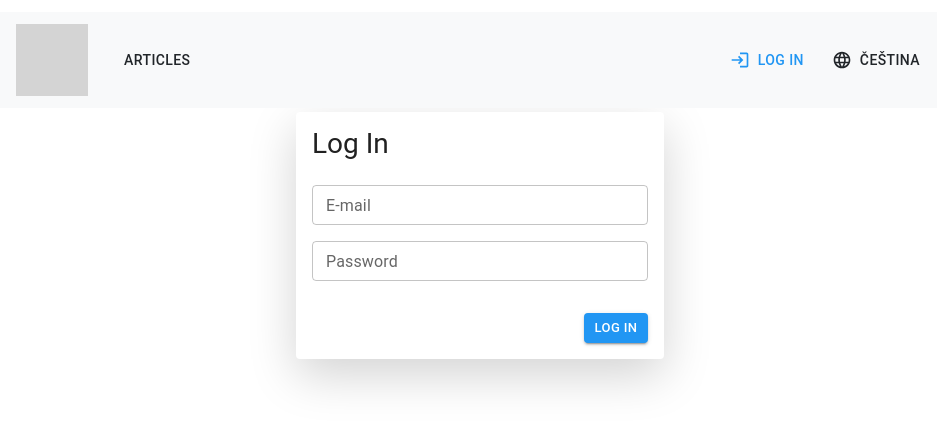
Test case: Login Page › should display an error message for invalid login
The image size is (937, 441).
In the element with test id "loginEmail": (480, 205) [312,185,648,225], type "invalid@example.com"
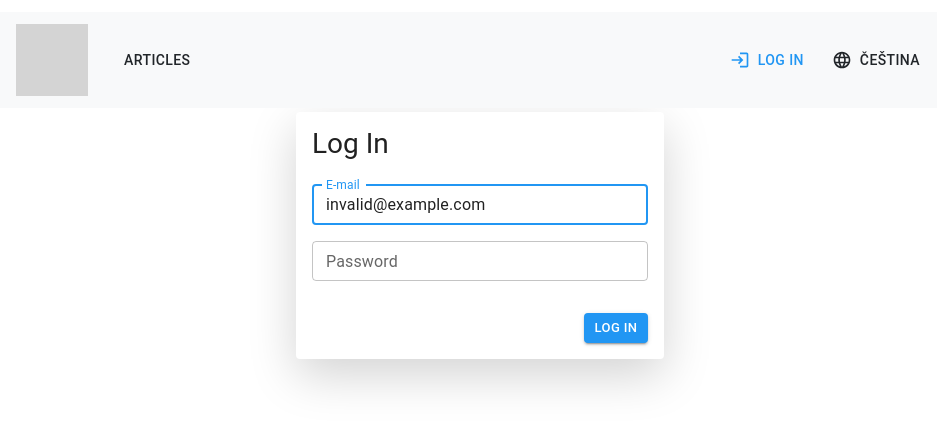
In the element with test id "loginPassword": (480, 261) [312,241,648,281], type "invalidpassword"
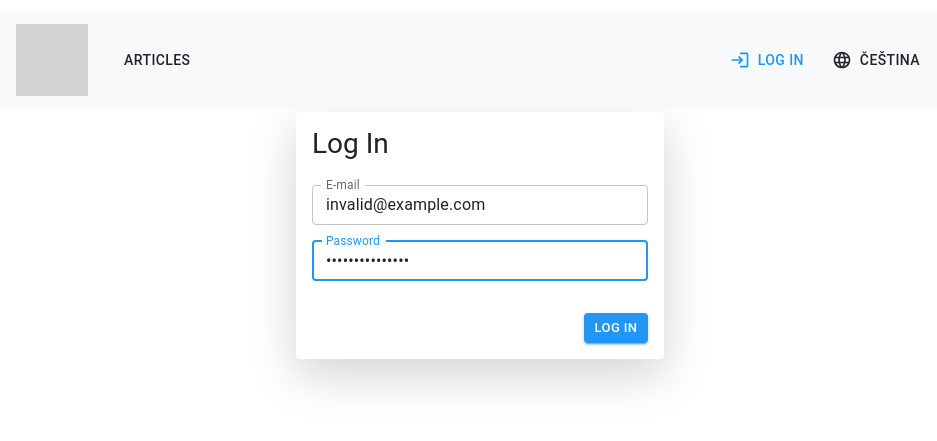
Click the button with test id "loginButton": (616, 329) [584,313,648,344]
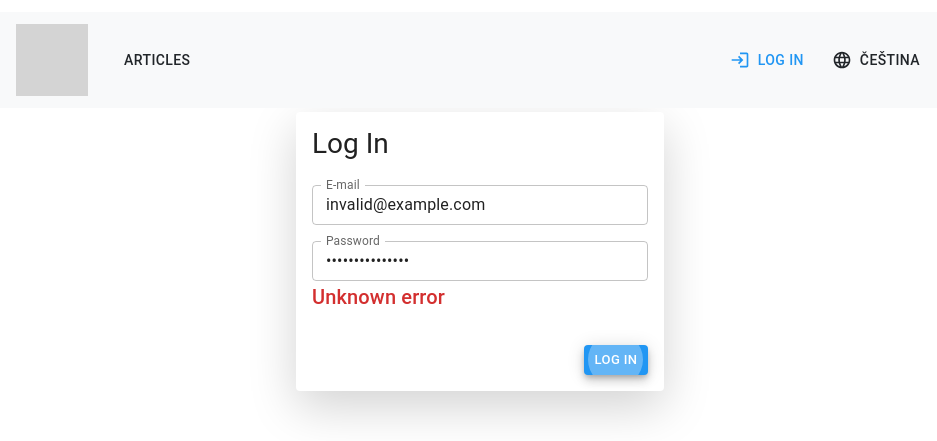
Now the heading "Unknown error" is shown, box [312,285,445,309]
